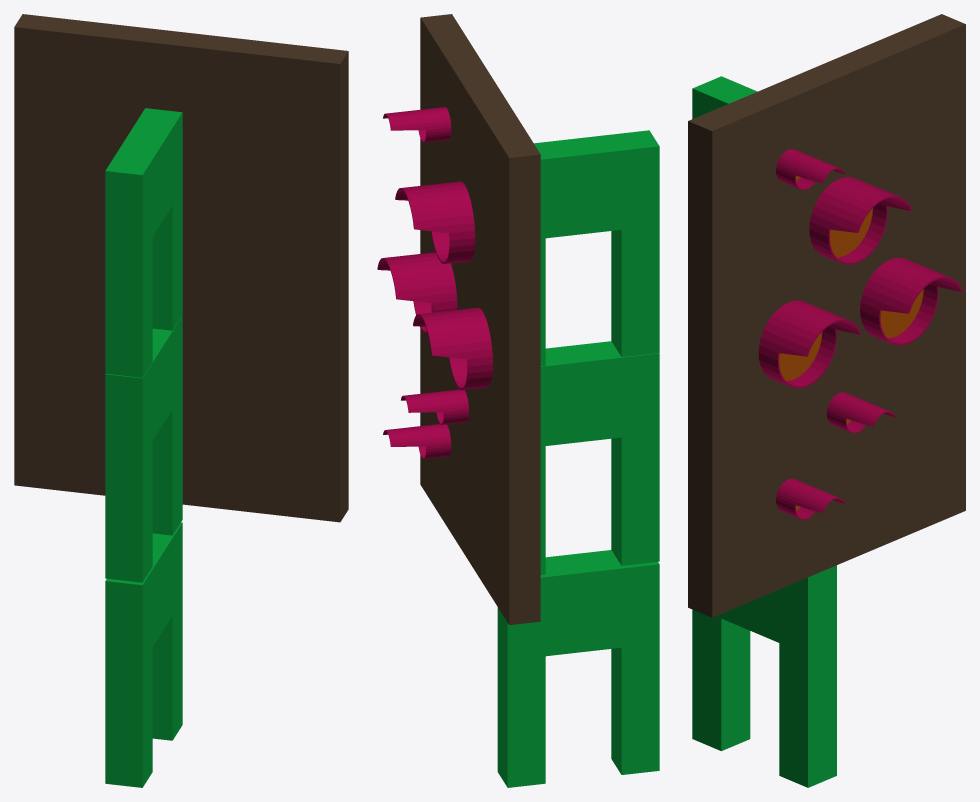
Rendered from advtrains_signals_ks_main_smr45.obj.
3 renders of one model, left to right at view 1: azimuth 30°, elevation 25°; view 2: azimuth 150°, elevation 25°; view 3: azimuth 270°, elevation 25°, orthographic. The views are drawn at different scales.
Parts seen in each view (by area): view 1: KsHauptsignal_Plane.006_Schirm, KsHauptsignal_Plane.006_Mast; view 2: KsHauptsignal_Plane.006_Mast, KsHauptsignal_Plane.006_Schirm, KsHauptsignal_Plane.006_Lampenrahmen; view 3: KsHauptsignal_Plane.006_Schirm, KsHauptsignal_Plane.006_Mast, KsHauptsignal_Plane.006_Lampenrahmen, KsHauptsignal_Plane.006_Lights.
Boxes of the visible parts, box(x1,y1,x2,y2) form: KsHauptsignal_Plane.006_Schirm: box(14, 14, 348, 522); KsHauptsignal_Plane.006_Mast: box(105, 108, 182, 787); KsHauptsignal_Plane.006_Mast: box(497, 130, 659, 787); KsHauptsignal_Plane.006_Schirm: box(420, 14, 540, 624); KsHauptsignal_Plane.006_Lampenrahmen: box(377, 107, 492, 459); KsHauptsignal_Plane.006_Schirm: box(688, 14, 965, 617); KsHauptsignal_Plane.006_Mast: box(692, 76, 836, 787); KsHauptsignal_Plane.006_Lampenrahmen: box(758, 149, 962, 519); KsHauptsignal_Plane.006_Lights: box(779, 176, 923, 511).
Bounding box in the file's own units: 0.4087 × 1.11 × 0.3873.
